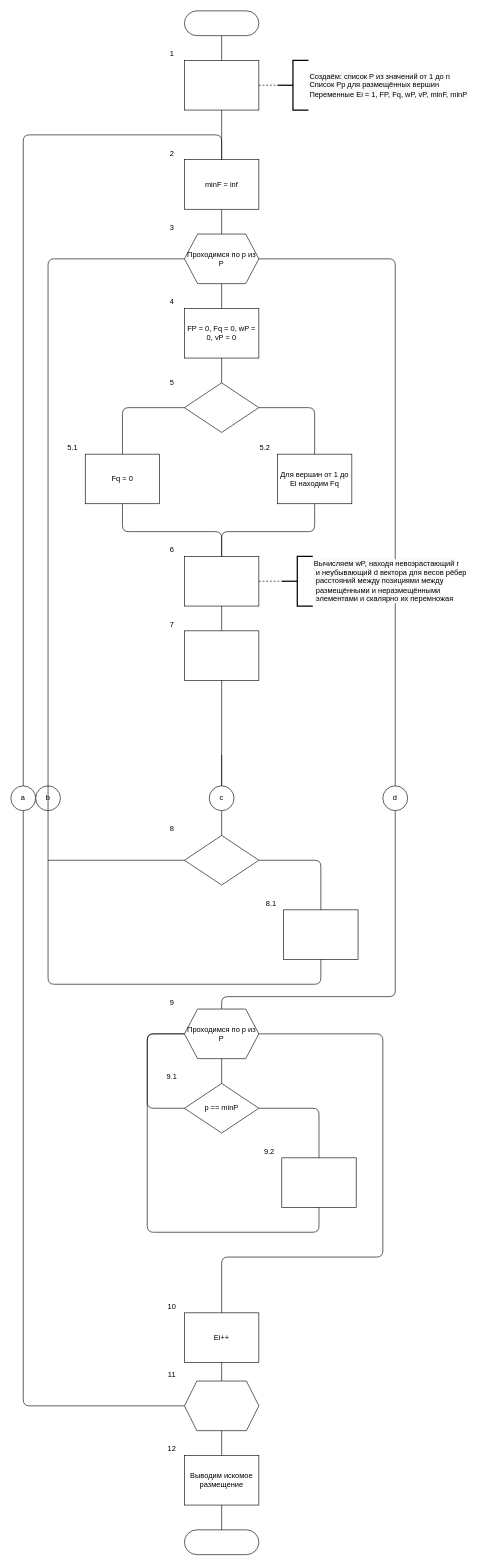
Some shapes in this 479 by 1566 pixel diagram are drawn without their labels. Here are the shapes that lost their labels. From the top down, the centre of each, then its label:
At pixel 221 23: "Начало".
At pixel 221 407: "Если Pp не пуст".
At pixel 221 655: "Вычисляем vP, находя вектора r и d для неразмещённых элементов FP = Fq + wP + vP".
At pixel 221 860: "Если FP < minF".
At pixel 320 934: "minF = FP minP = текущий p".
At pixel 318 1182: "Удаляем из P и добавляем в конец Pp значение p".
At pixel 221 1405: "Пока P не пустой".
At pixel 221 1542: "Конец".
